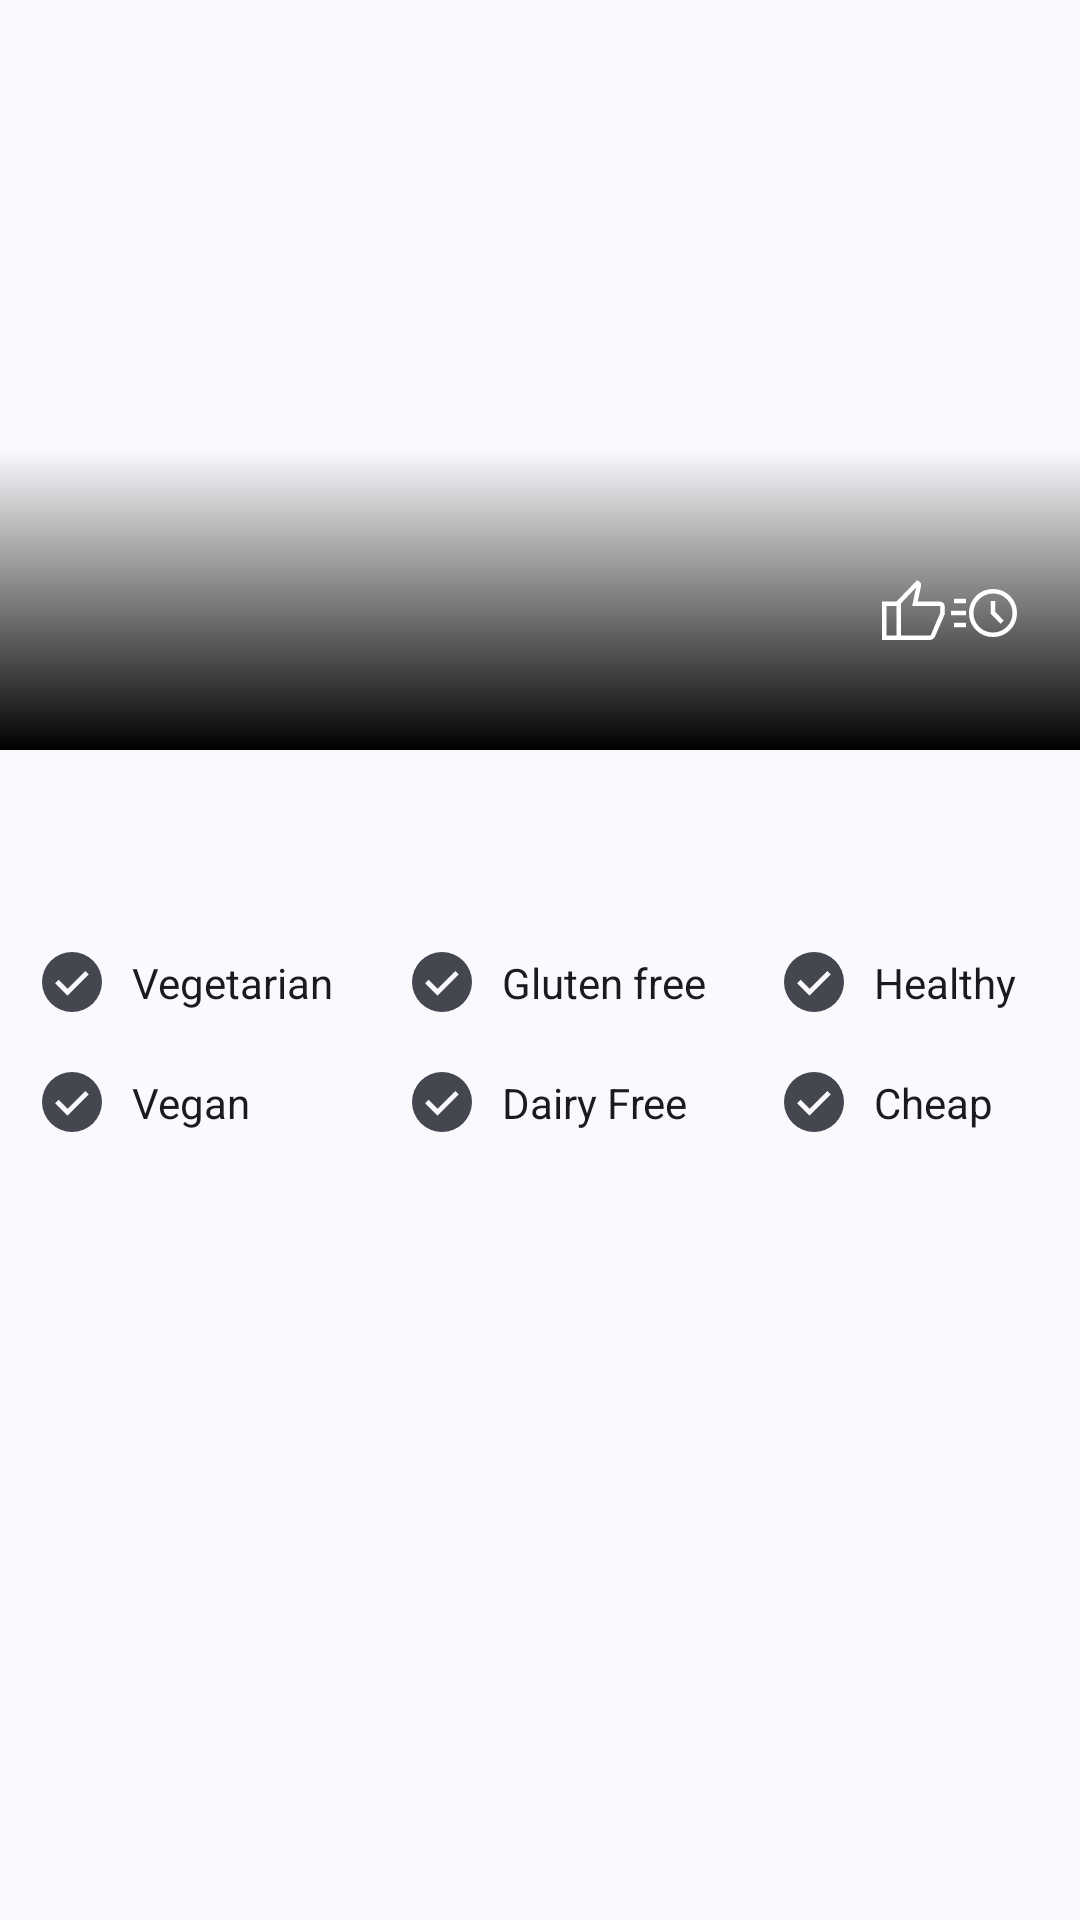

Named icons in this screenshot (1080*1920) and their centers, (x=x, y=y):
check mark: (x=72, y=982), (x=442, y=982), (x=814, y=982), (x=72, y=1102), (x=442, y=1102), (x=814, y=1102)
like: (x=912, y=613)
time: (x=984, y=613)
